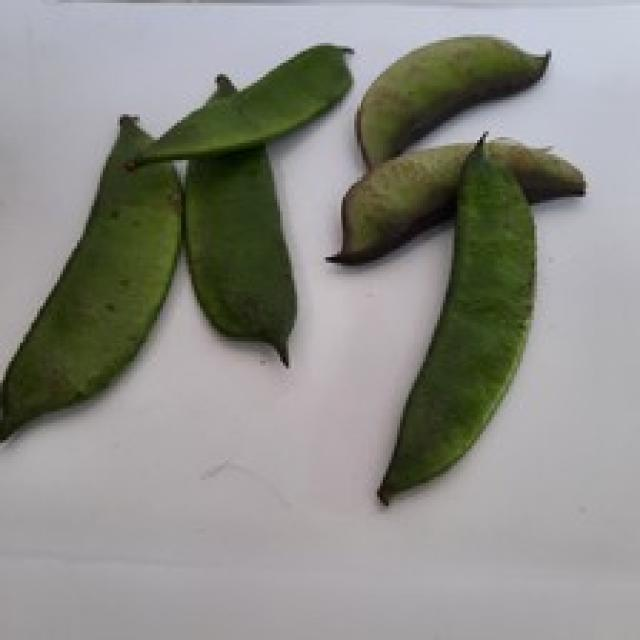Bean: (0, 111, 183, 443), (374, 131, 534, 506), (323, 131, 586, 266), (180, 71, 297, 366), (352, 32, 552, 168)
